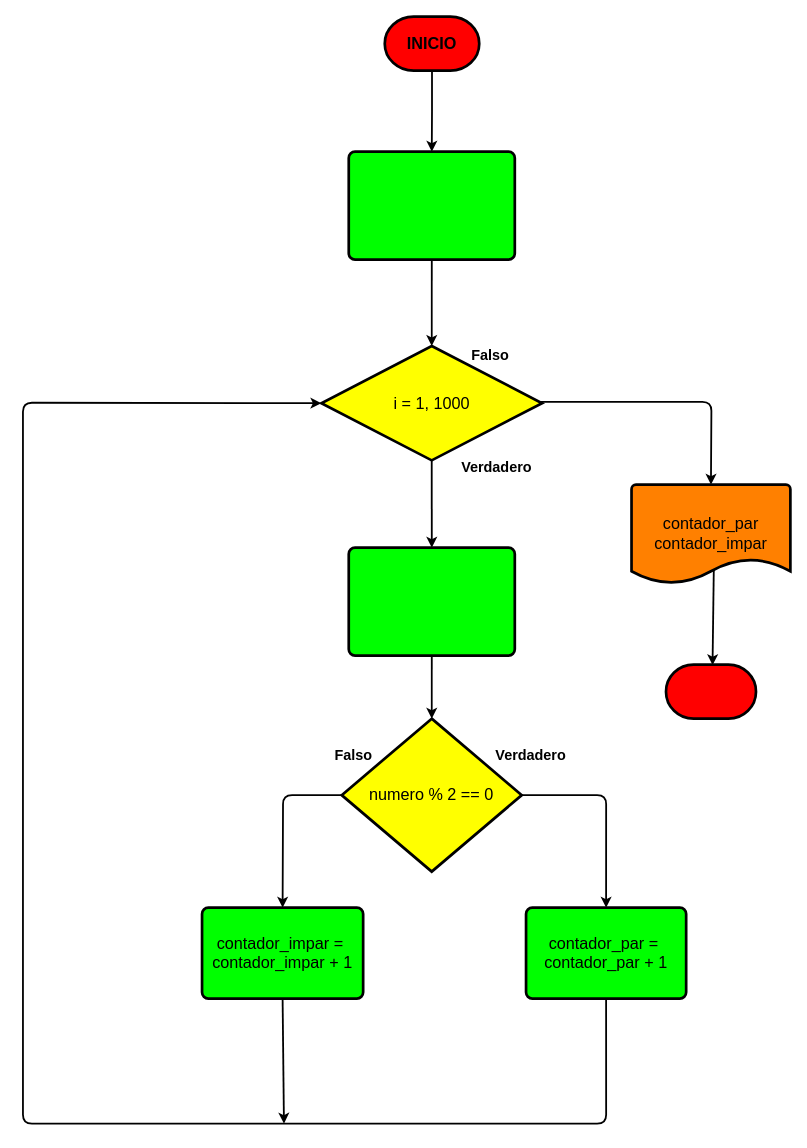
Image size: 807x1148. Some labels were removed from this diagram. The shapes that lost their labels are listed below. From the top down, each one's centre as x and y in pixels, then its label:
At point 431,205: "contador_par = 0 contador_impar = 0".
At point 431,601: "numero = randint(0, 100)".
At point 710,691: "FIN".
